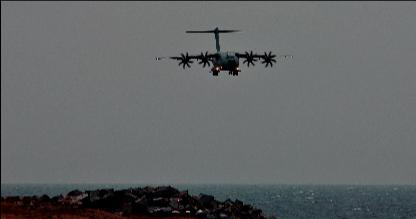A400M: (155, 27, 292, 75)
